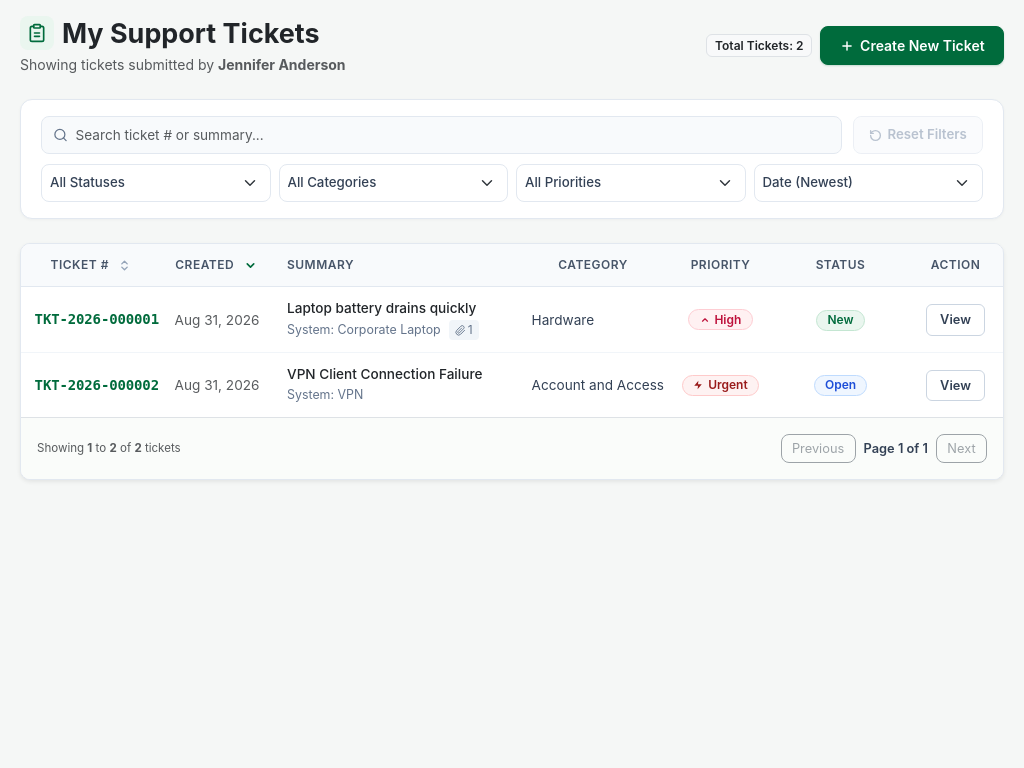
Test case: MyTickets Component › renders distinct No-Results State when filter yields zero results, and clears filters on click
The width and height of the screenshot is (1024, 768).
expect the element with test id "tickets-table-card" is shown: met, box [20, 243, 1004, 480]
Type "NonExistentKeywordXYZ" into the field with placeholder "Search ticket # or summary...".
click(442, 135); type("NonExistentKeywordXYZ")  # box [41, 116, 842, 154]
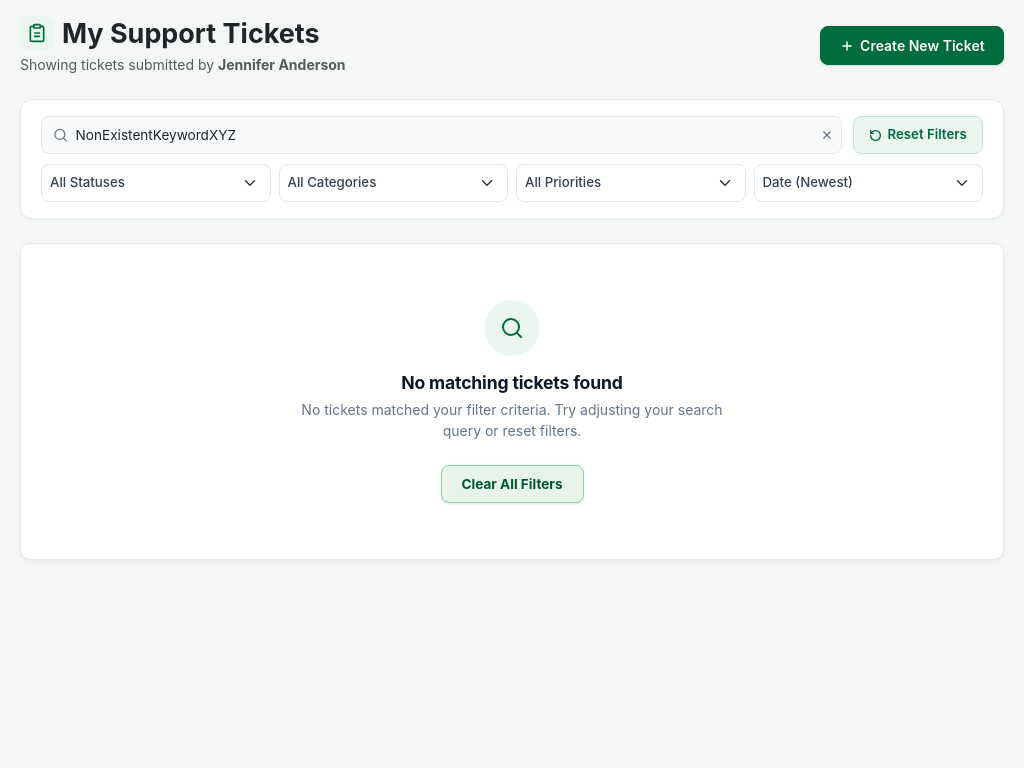
expect the element with test id "no-results-state" is shown: met, box [20, 243, 1004, 560]
expect the heading "No matching tickets found" is shown: met, box [401, 372, 623, 393]
Note: Click Clear All Filters in no-results card
Click the button with test id "no-results-clear-btn".
click(512, 484)  # box [440, 465, 584, 504]
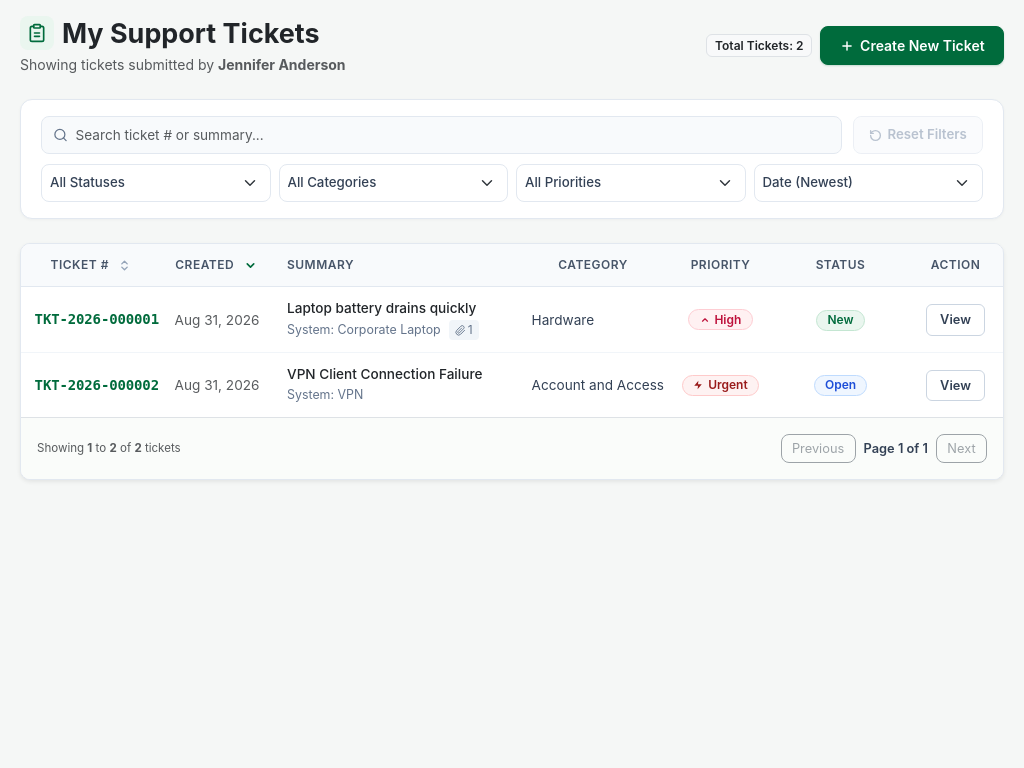
expect the field with placeholder "Search ticket # or summary..." is empty: met, box [41, 116, 842, 154]
